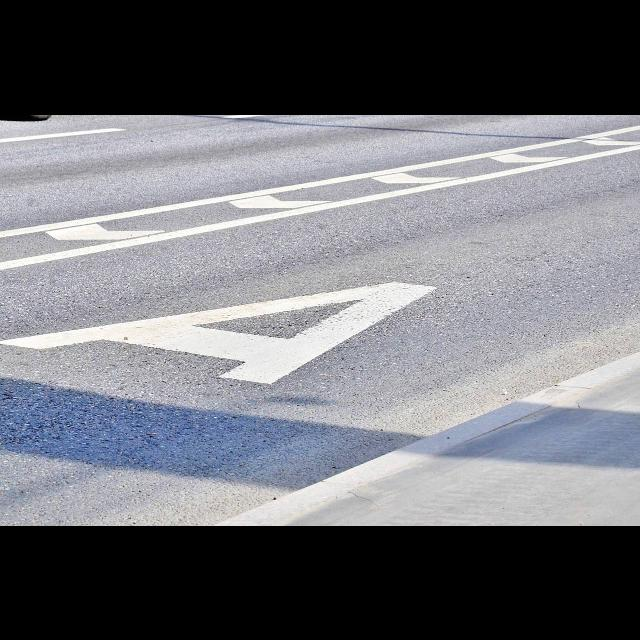road: (0, 114, 640, 525)
